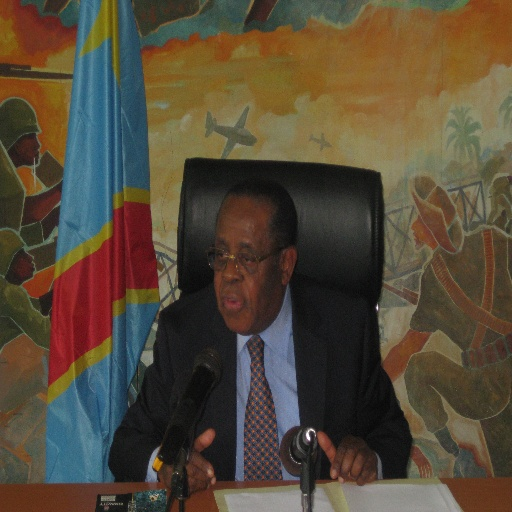hand: (158, 427, 216, 497), (323, 434, 382, 490)
